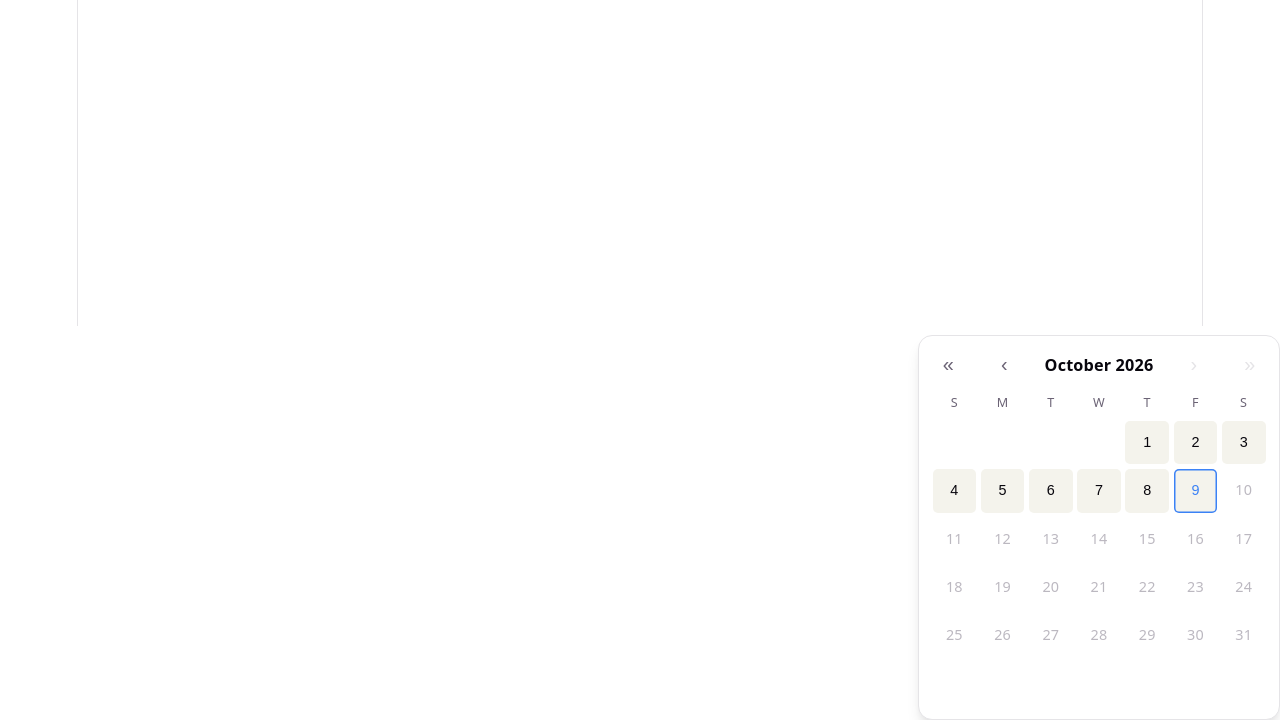
CalendarPopover › jumps to the oldest month and back with |< and >|
(page scrolled)
What coordinates should you click on to do the following:
click the button named "Go to oldest month"
I would click on:
 (948, 365)
Its box is [932,350,964,381].
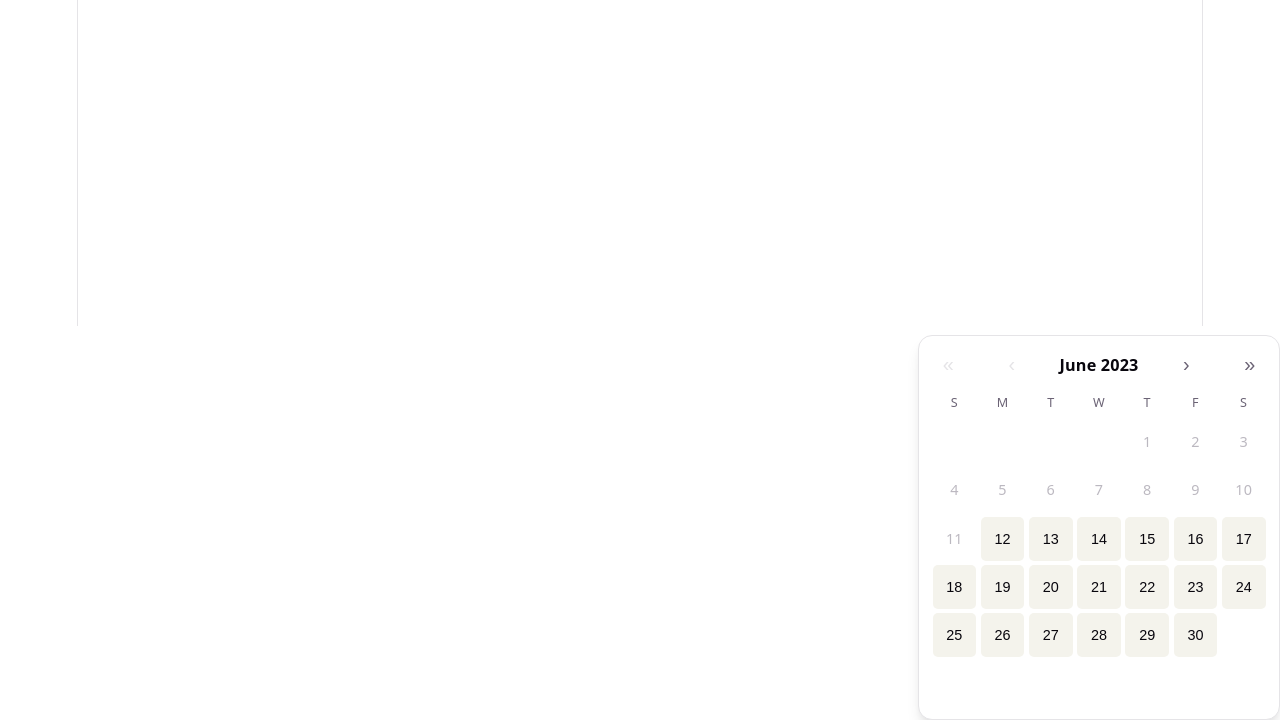
expect the text "June 2023" is shown: met, box [1060,352,1139,378]
expect the button named "Go to oldest month" is disabled: met, box [932,350,964,381]
expect the button named "Go to latest month" is enabled: met
What coordinates should you click on to do the following:
click the button named "Go to latest month"
I would click on:
 (1250, 365)
Its box is [1234,350,1266,381].
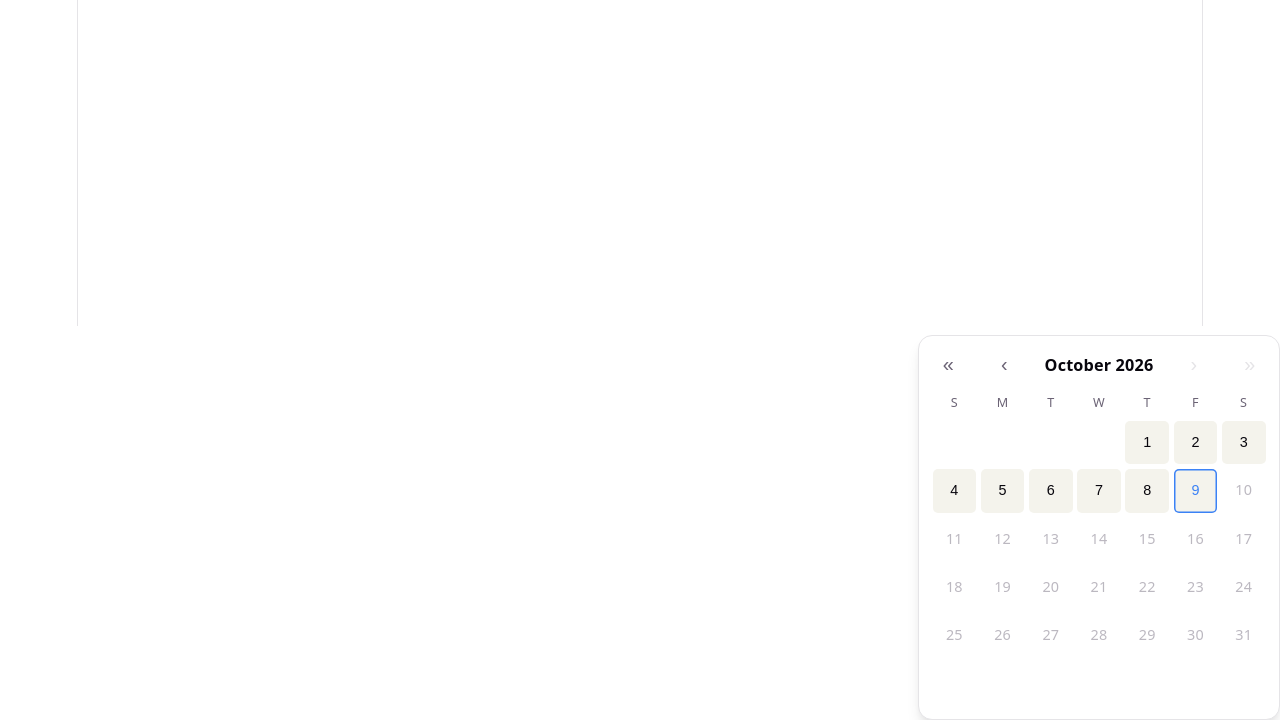
expect the button named "Go to latest month" is disabled: met, box [1234,350,1266,381]
